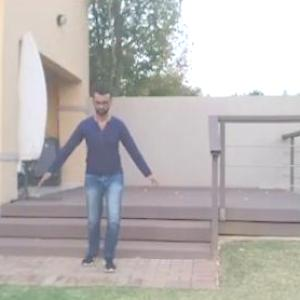land: (37, 85, 151, 273)
